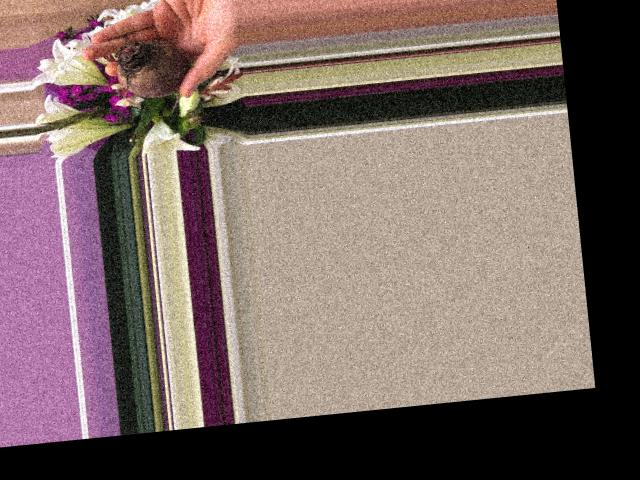beet: (113, 36, 195, 118)
